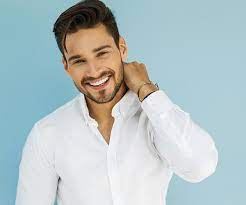without_mask: (39, 1, 150, 106)
